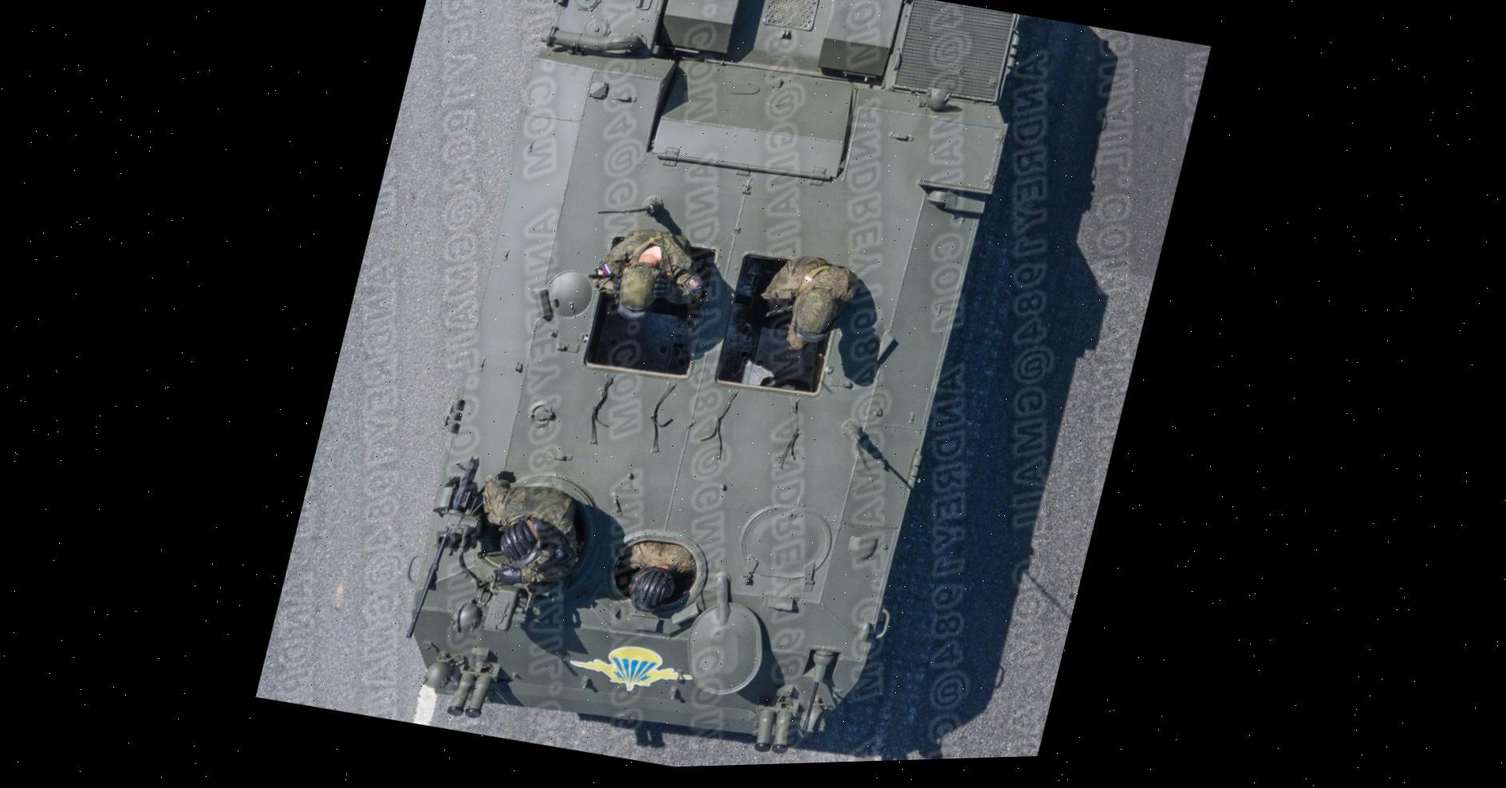armored_car: (370, 0, 1051, 776)
